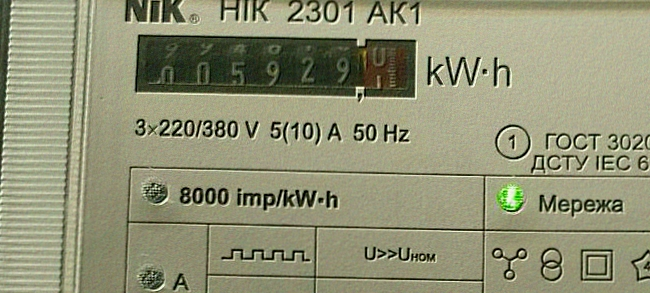0: (193, 59, 213, 87), (156, 61, 178, 84), (369, 45, 389, 68)
2: (297, 53, 317, 86)
5: (228, 59, 247, 87)
9: (261, 57, 283, 88), (333, 54, 353, 86), (161, 41, 179, 59)
screen: (128, 28, 424, 108)
